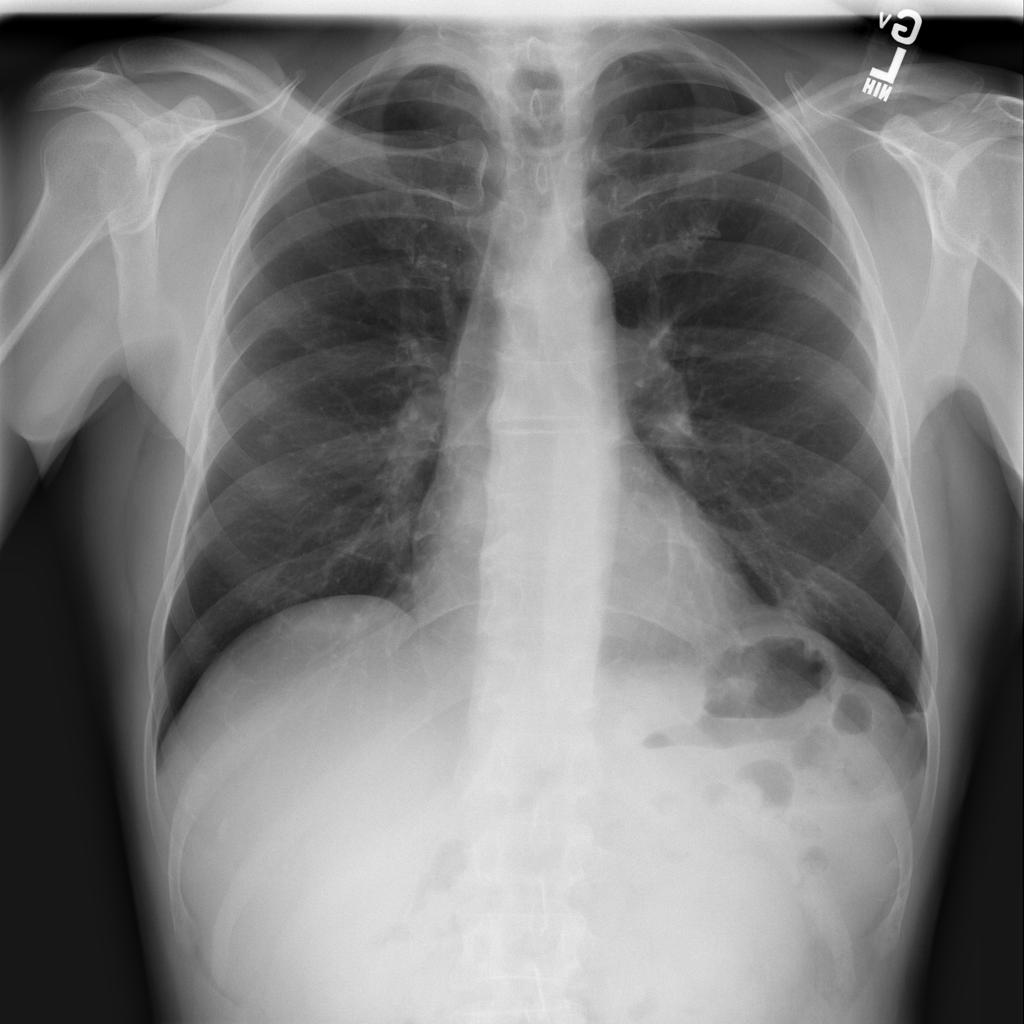nodule: (240, 413, 295, 458)
